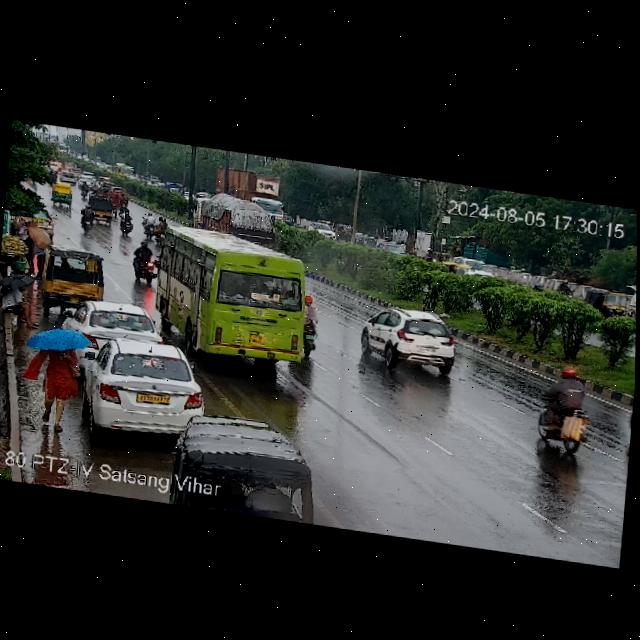bus: (143, 219, 318, 373)
car: (78, 331, 208, 443), (358, 302, 460, 378), (62, 295, 164, 350), (40, 243, 108, 305), (436, 249, 512, 282), (583, 283, 633, 318), (84, 186, 116, 226), (51, 180, 73, 207), (306, 221, 334, 237), (164, 181, 185, 192), (60, 172, 78, 184)
motorcycle: (535, 362, 598, 460), (128, 235, 160, 287), (299, 290, 320, 353), (138, 207, 170, 241), (118, 206, 134, 238)
person: (33, 335, 77, 426), (0, 268, 36, 327), (13, 222, 48, 277), (557, 280, 576, 297)
truck: (211, 158, 288, 222), (197, 191, 279, 246), (118, 163, 137, 177)
